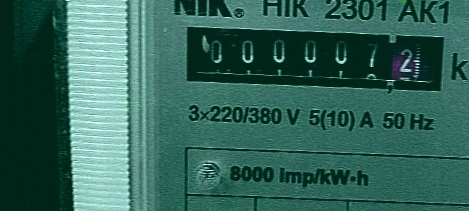0: (208, 35, 227, 63), (302, 35, 321, 63), (271, 34, 289, 63), (240, 35, 258, 63), (334, 37, 351, 65)
2: (399, 46, 417, 73)
7: (365, 38, 382, 69)
screen: (174, 12, 458, 103)
